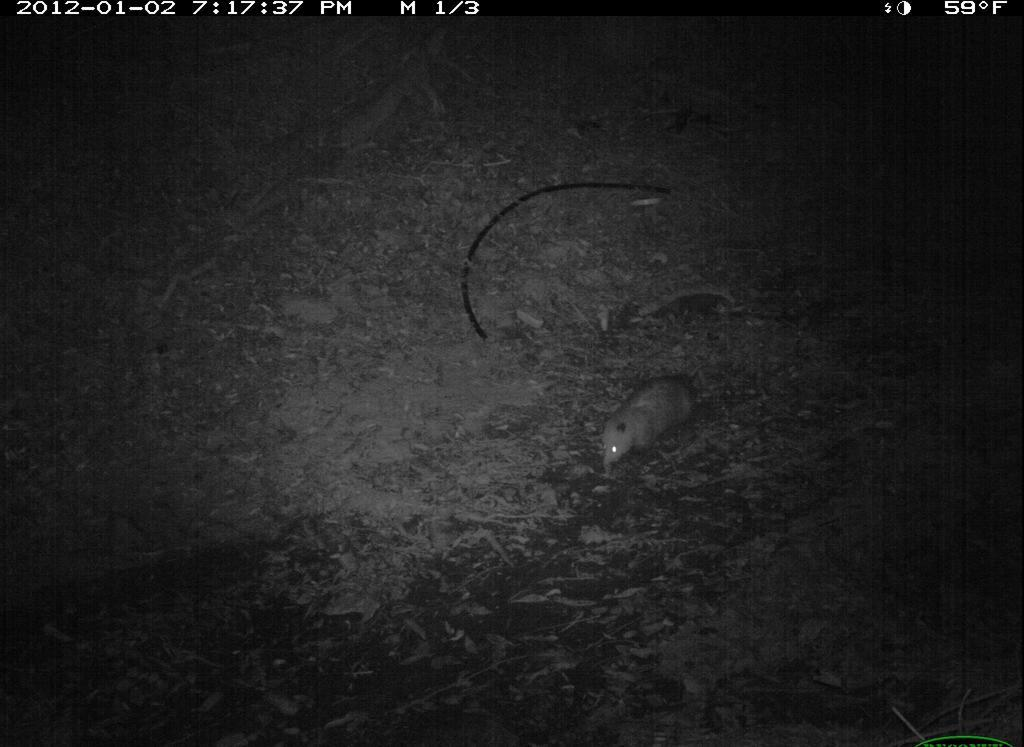opossum: (579, 372, 708, 470)
